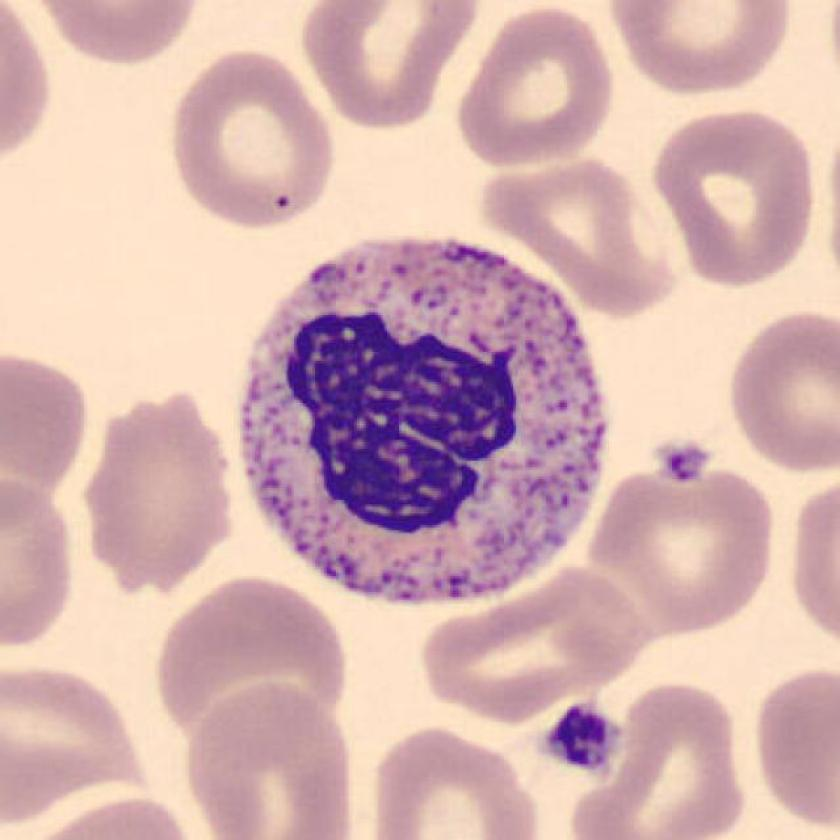neutrophil: (240, 241, 605, 600)
